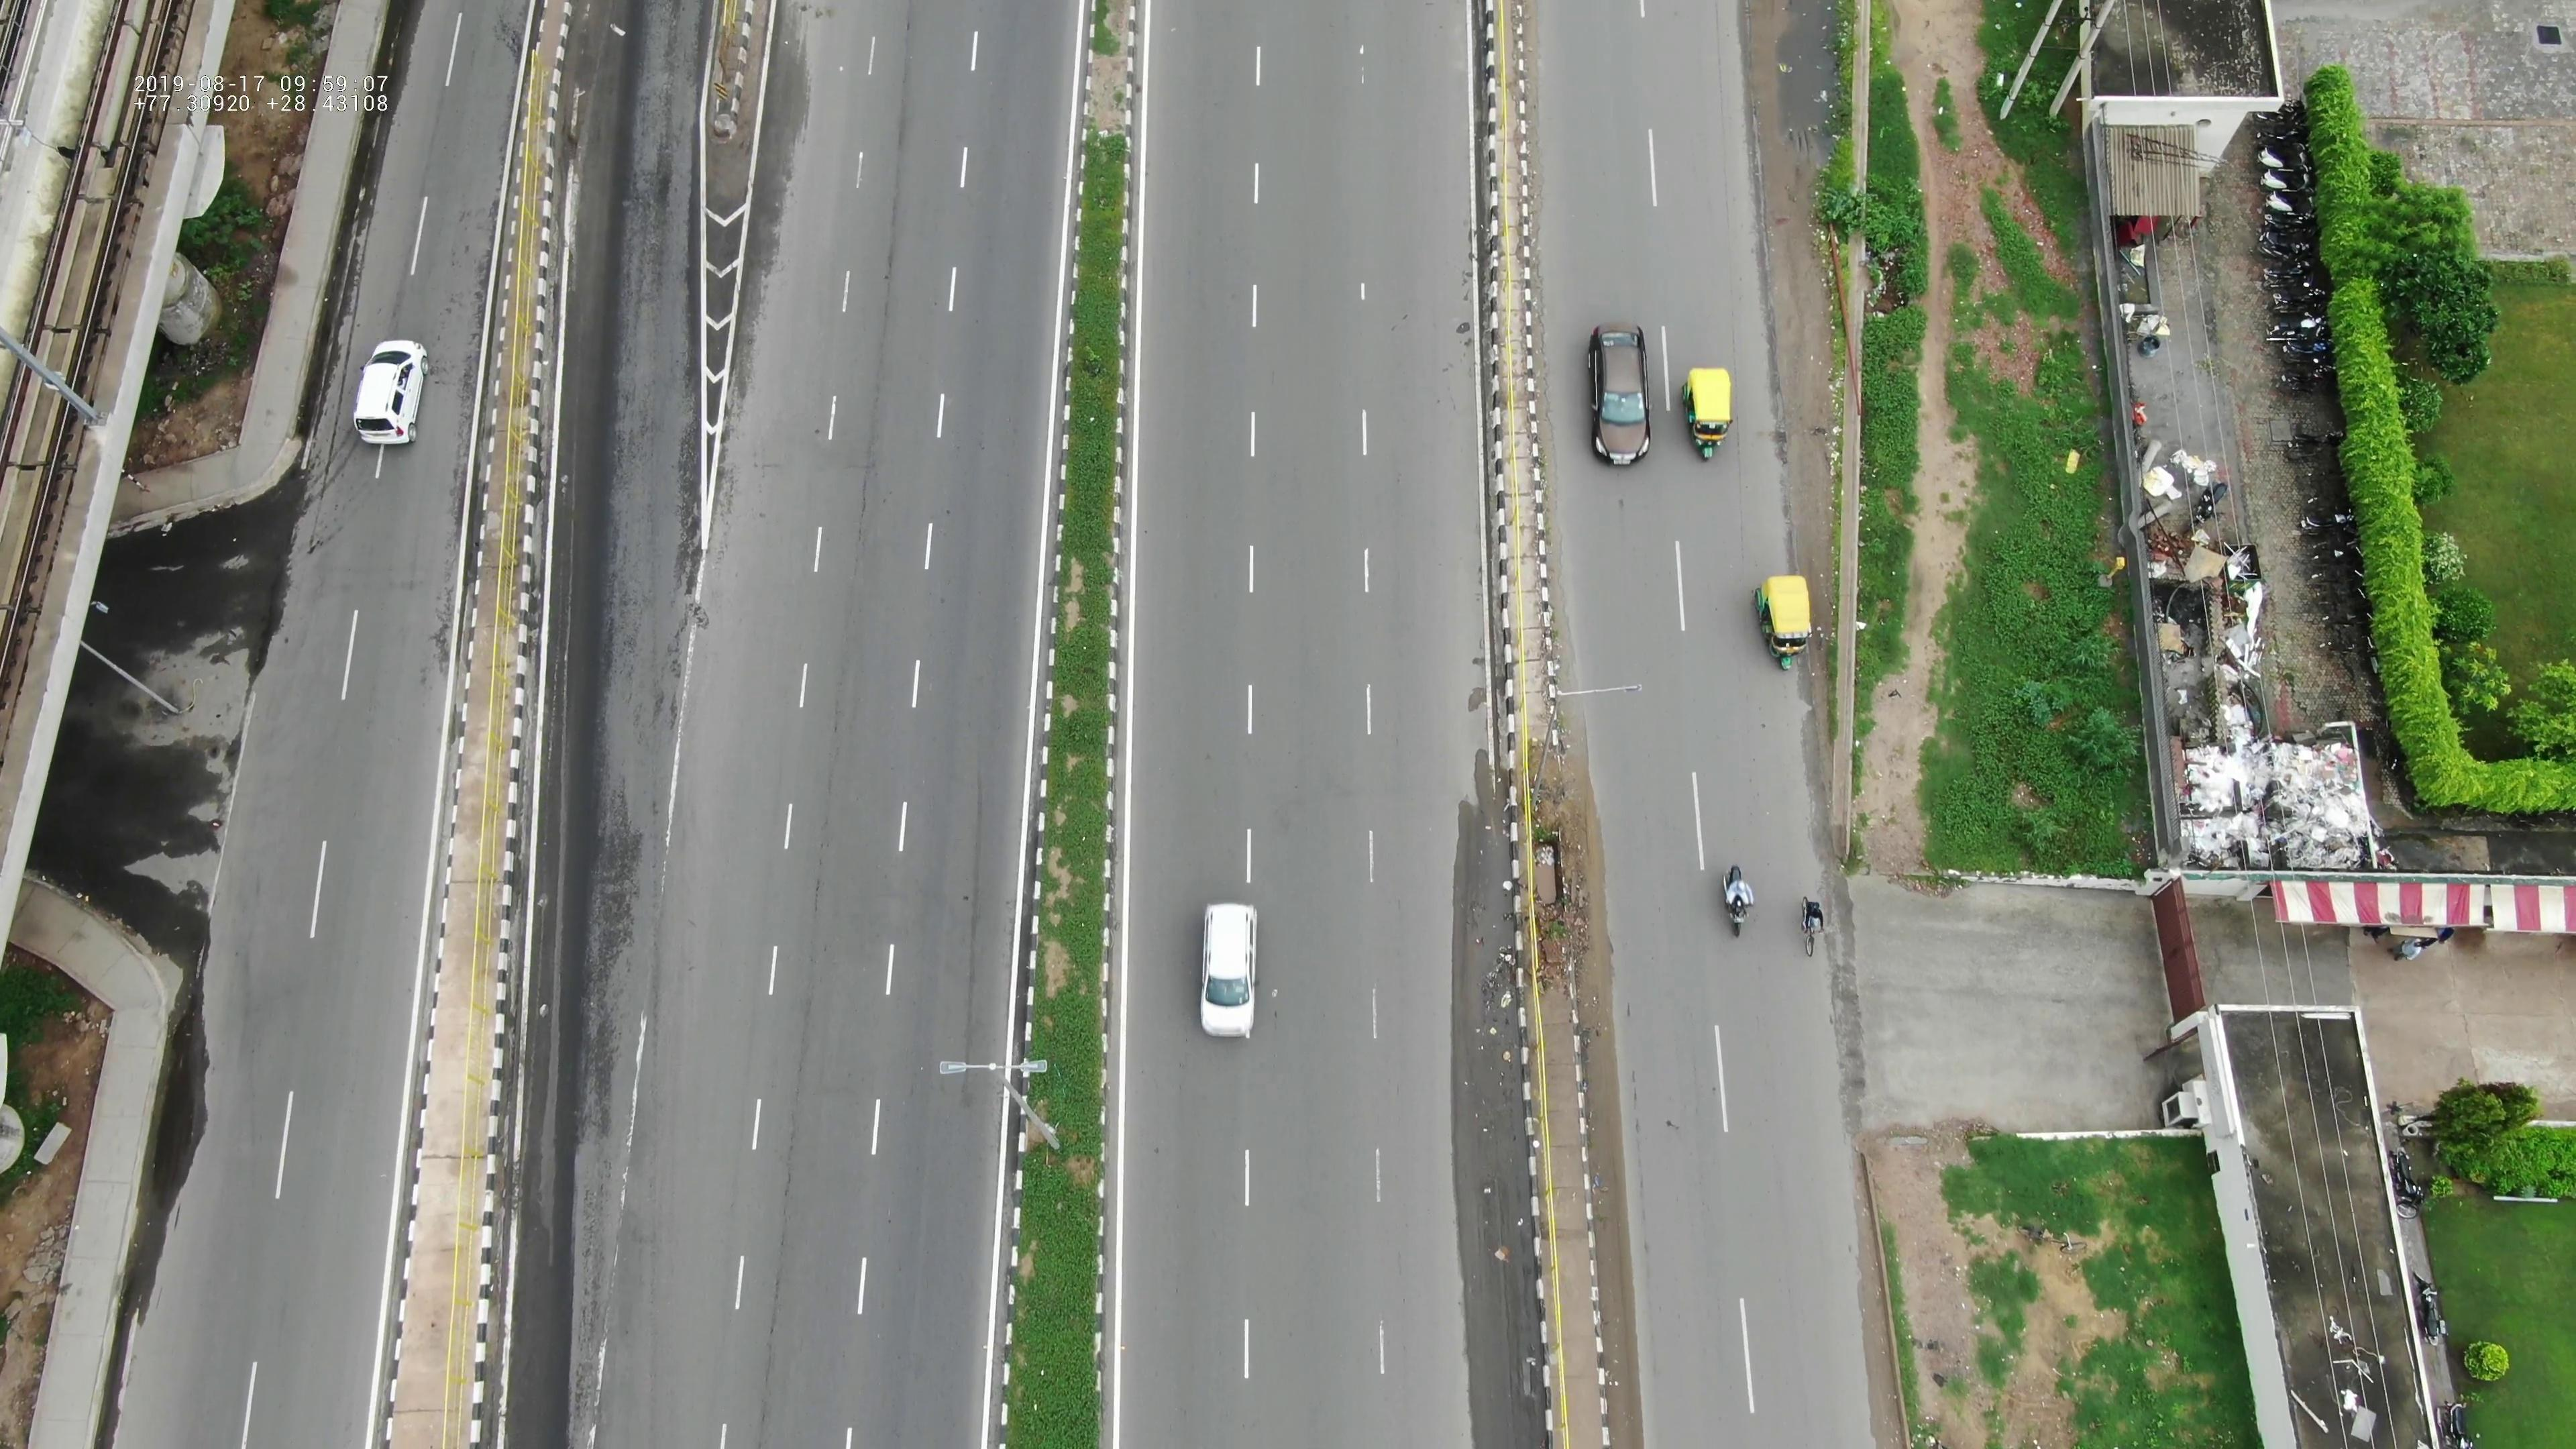Muddy_road: (1530, 796, 1626, 1028), (1852, 1208, 1918, 1449)
Waterlogging: (1746, 18, 1856, 324)
